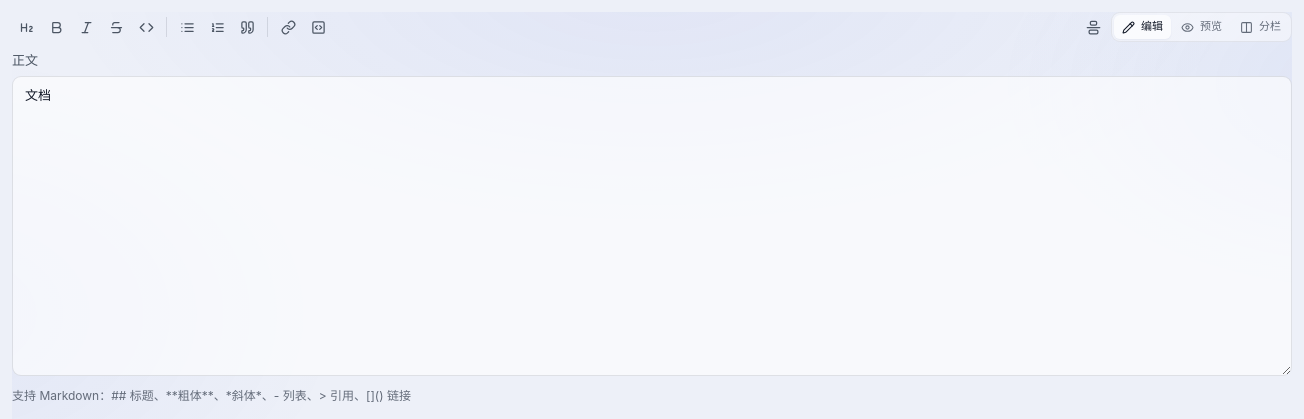
Test case: MarkdownEditor › 「链接」把选中文字放进文字位，光标停在地址位
Click the button named "链接" at (288, 27), box [274,13,302,41]
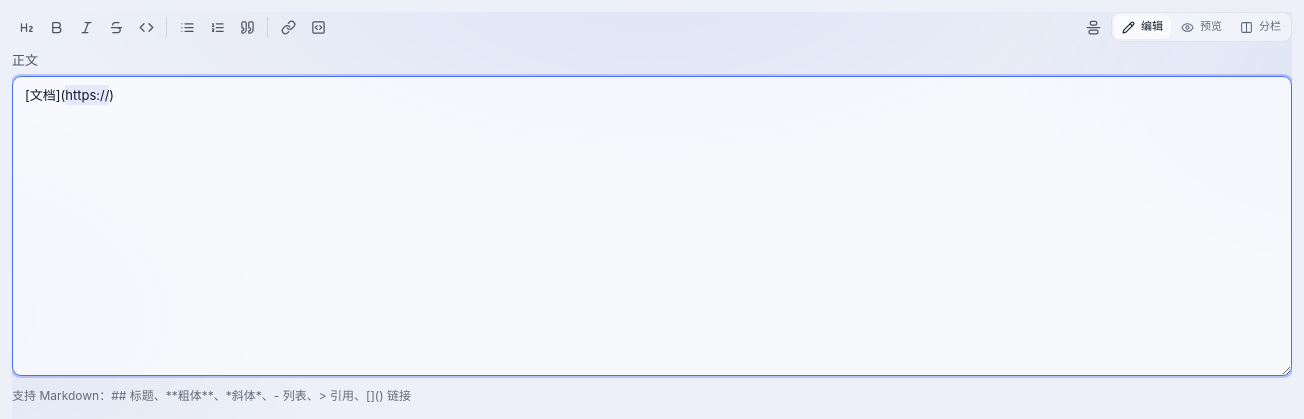
Expected: the text box labelled "正文" holds "[文档](https://)"
